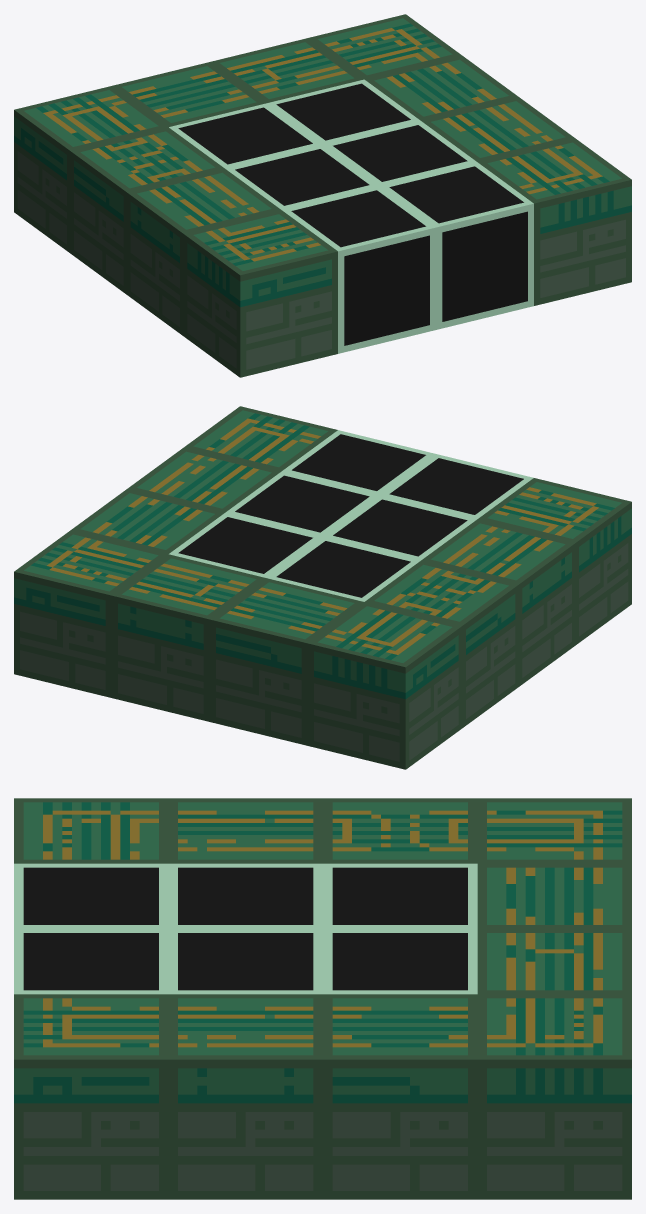
Rendered from m_tiles_7_4x4.fbx.
The picture shows the model from 3 angles, top to bottom: view 1: azimuth 30°, elevation 25°; view 2: azimuth 150°, elevation 25°; view 3: azimuth 270°, elevation 25°; orthographic projection. The views are drawn at different scales.
Parts seen in each view (by area): view 1: m_tiles_7_4x4; view 2: m_tiles_7_4x4; view 3: m_tiles_7_4x4.
Part boxes in pixels (x1=…): m_tiles_7_4x4: x1=14, y1=14, x2=631, y2=377; m_tiles_7_4x4: x1=14, y1=406, x2=631, y2=769; m_tiles_7_4x4: x1=14, y1=798, x2=631, y2=1199.
Size of the model in its own units: 6.4 by 1.6 by 6.4.
Materials: 1 (1 with a texture image).
